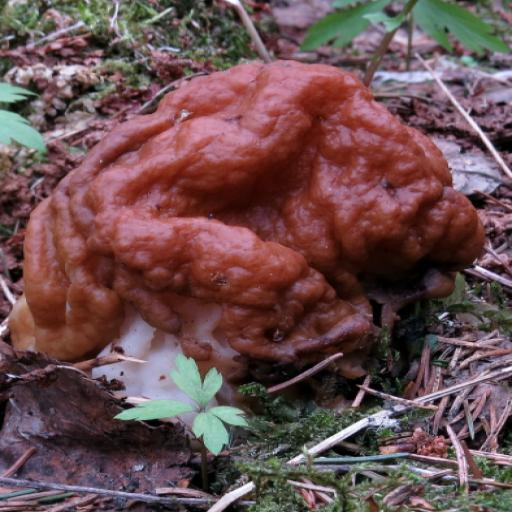mushroom: (0, 0, 496, 466)
